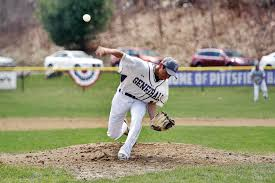baseball: (81, 12, 93, 24)
baseball player: (94, 45, 179, 161), (247, 64, 271, 101)
